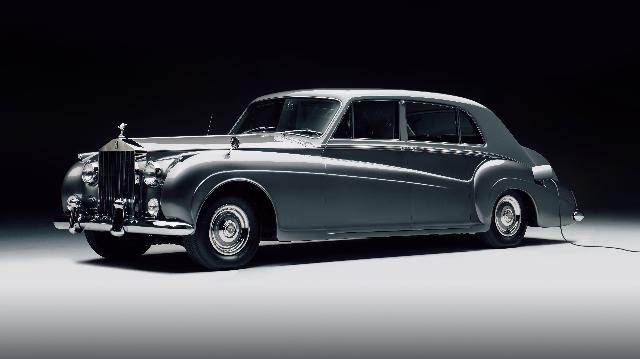rolls-royce: (53, 88, 585, 272)
